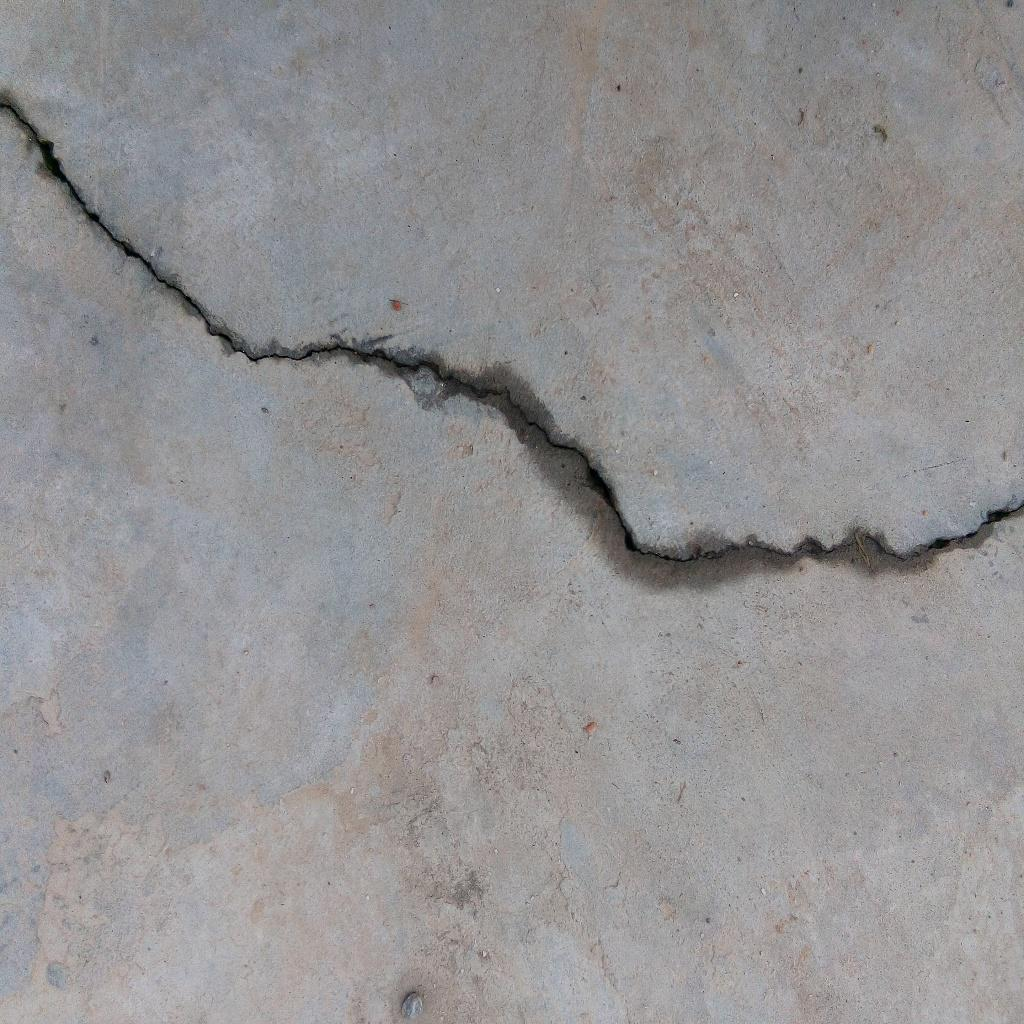crack: (1, 100, 1024, 569)
